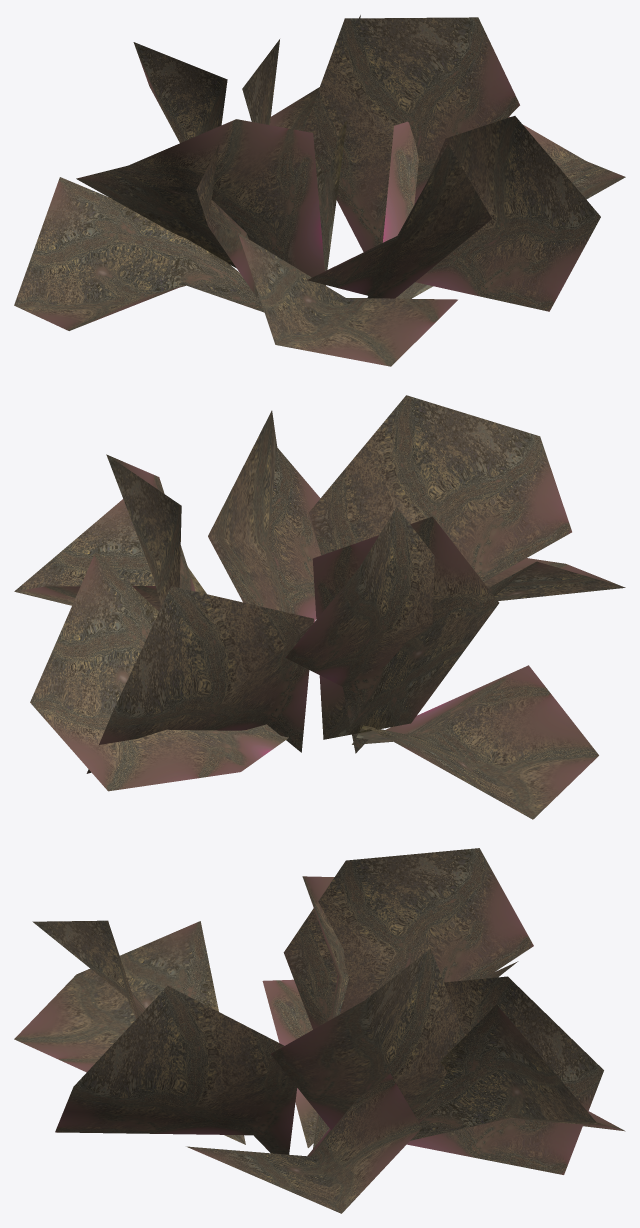
File: bush.dae
3 renders of one model, top to bottom at view 1: azimuth 30°, elevation 25°; view 2: azimuth 150°, elevation 25°; view 3: azimuth 270°, elevation 25°, orthographic. The views are drawn at different scales.
Visible parts, largest first — view 1: SM_Bush; view 2: SM_Bush; view 3: SM_Bush.
Boxes of the visible parts, x1,y1,x2,y2 form: SM_Bush: (14,15,625,366); SM_Bush: (14,395,625,819); SM_Bush: (14,848,625,1213).
Size of the model in its own units: 1.19 by 0.548 by 1.15.
Materials: 1 (1 with a texture image).
